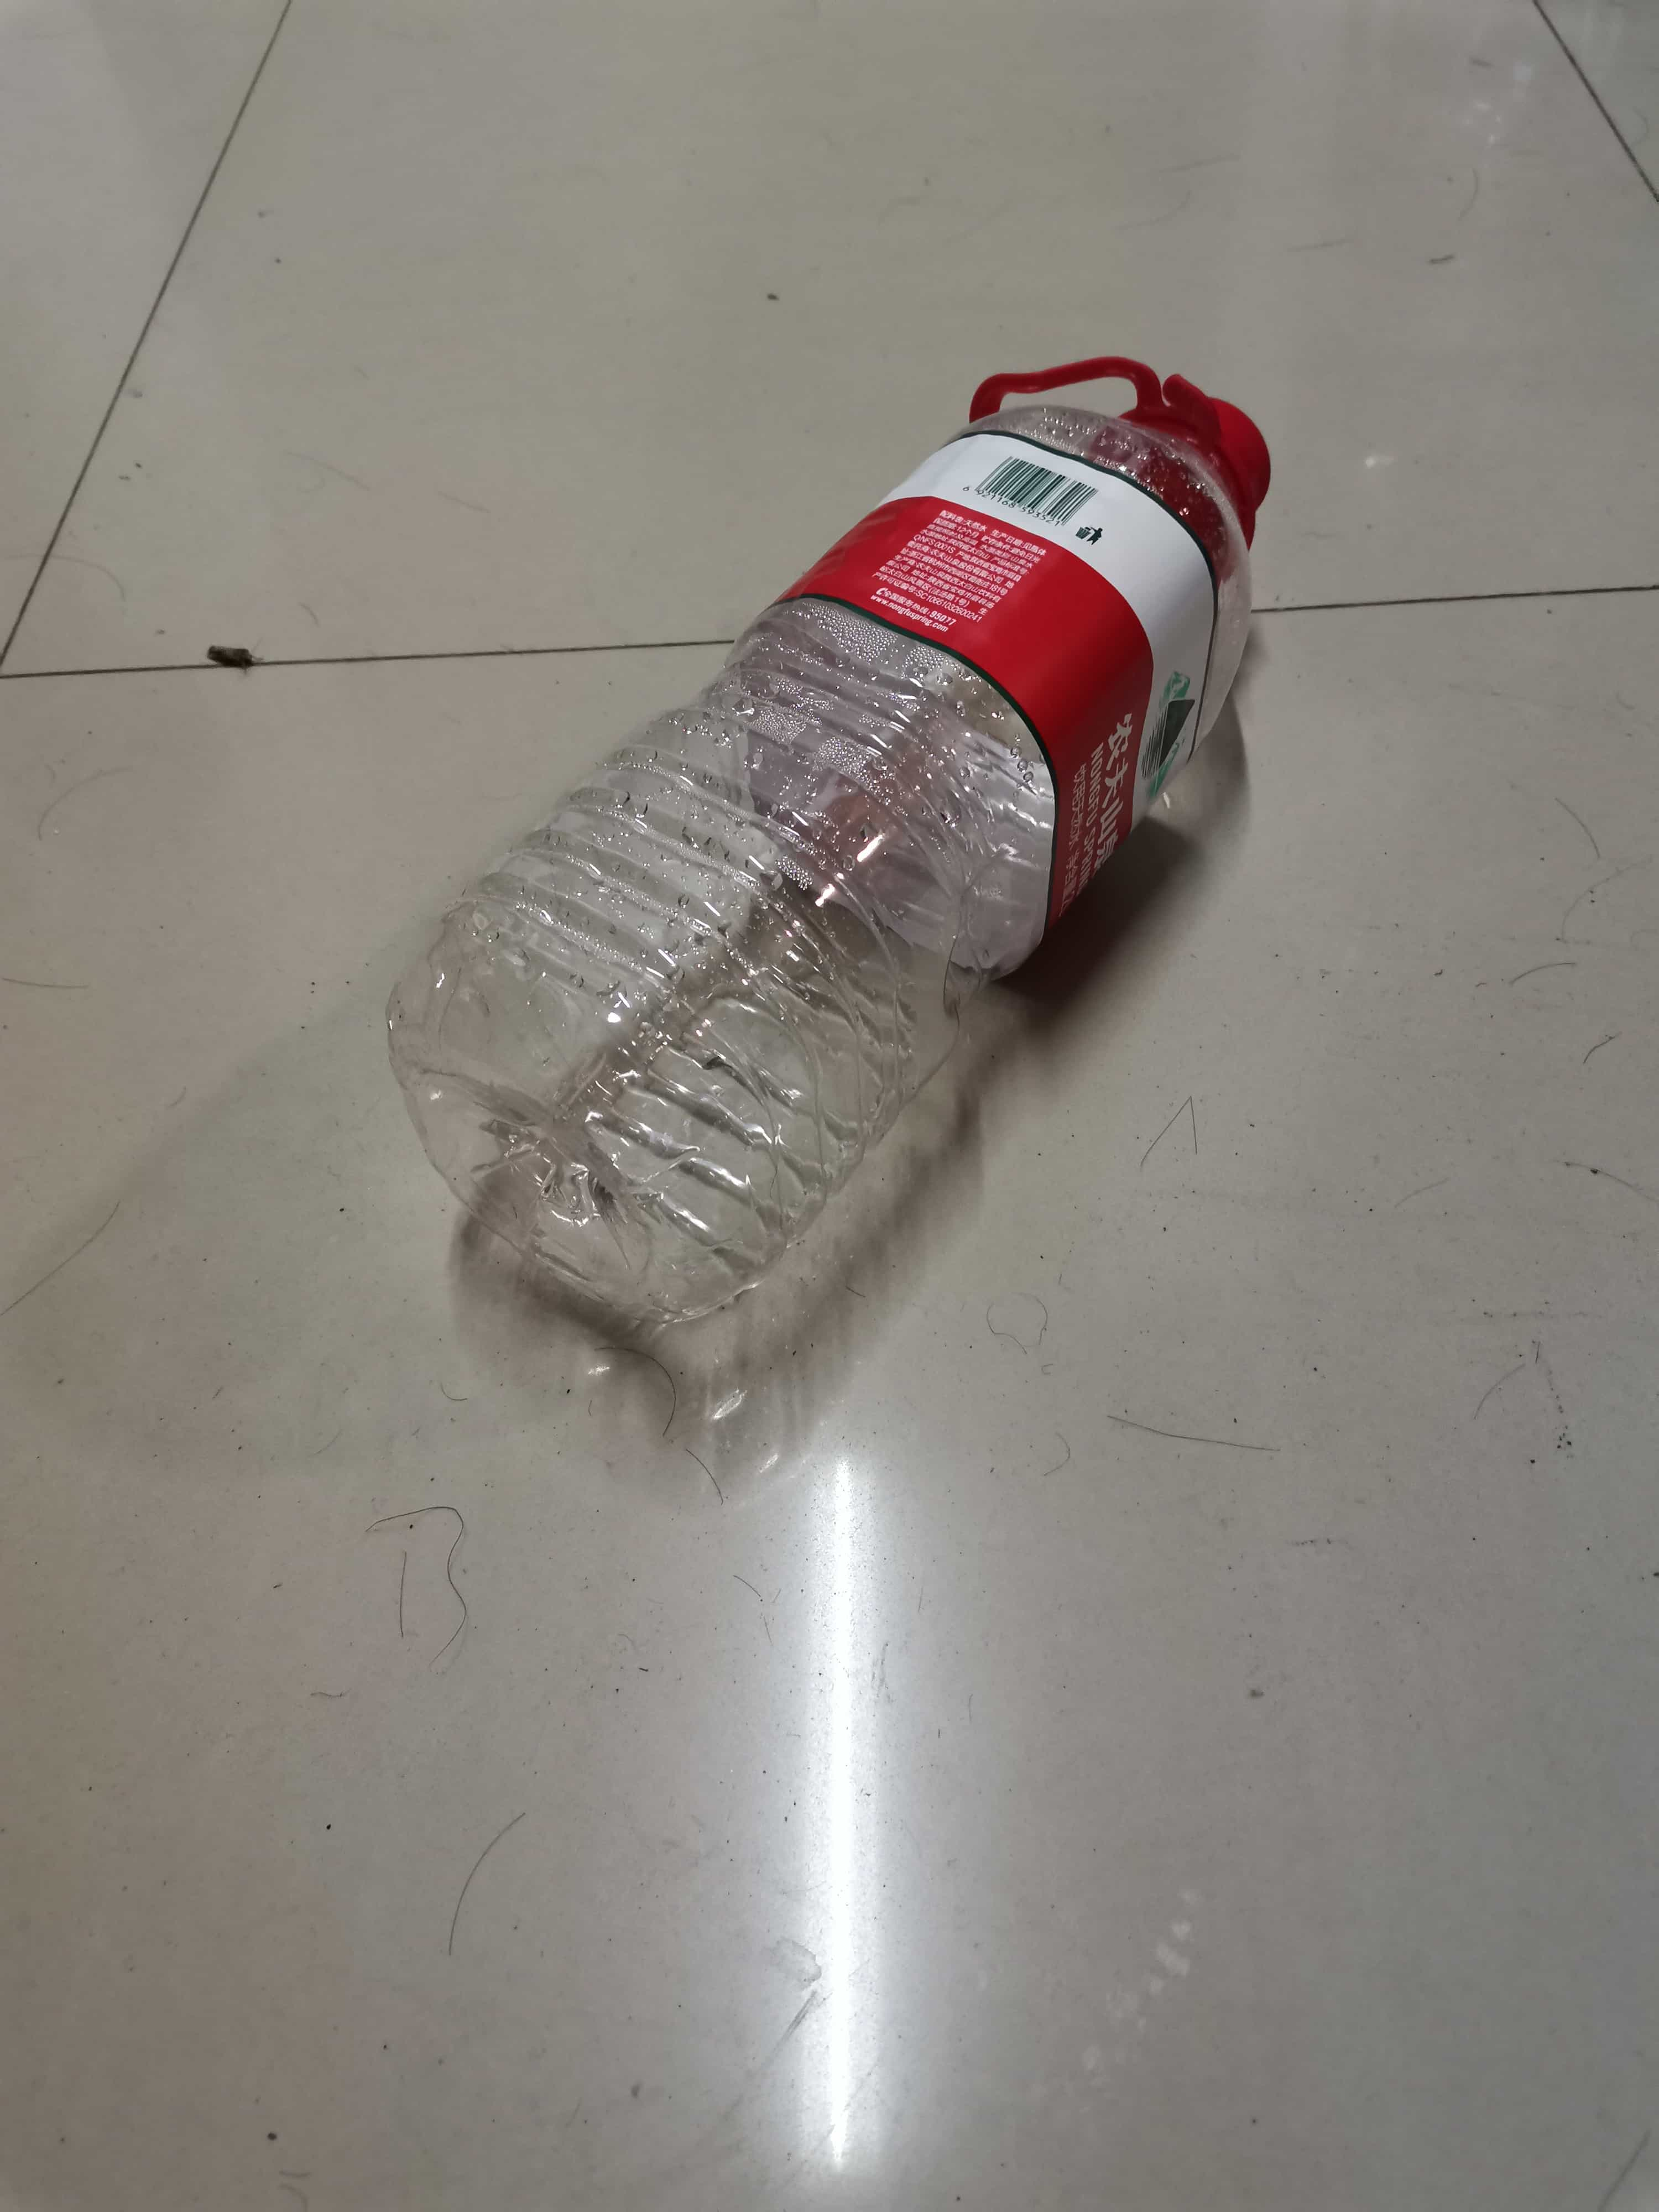plastic_bottle: (375, 345, 1290, 1345)
